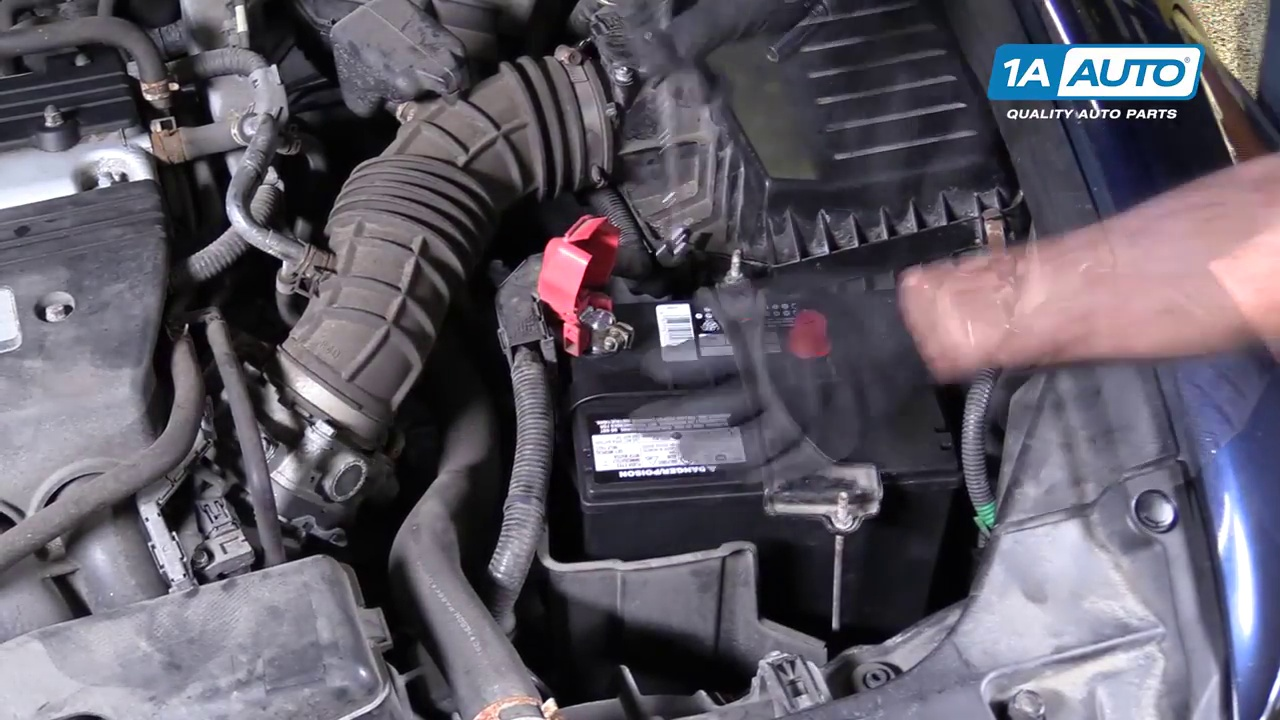battery: (561, 274, 965, 484)
pos_connected: (475, 205, 659, 361)
